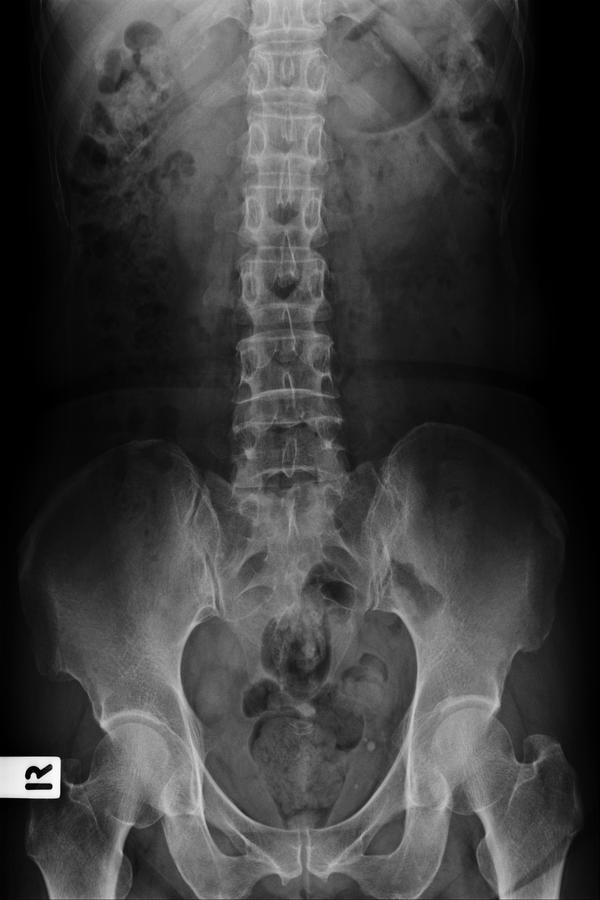lumbar scoliosis: (234, 9, 348, 525)
